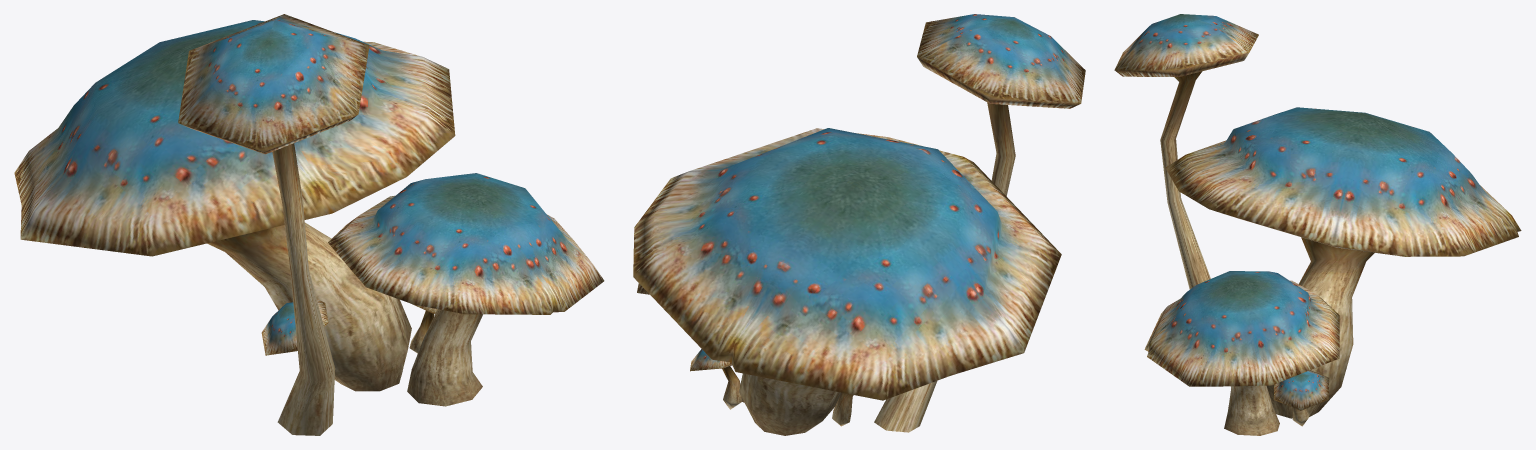
The model's file is dumogu.FBX.
The picture shows the model from 3 angles, left to right: view 1: azimuth 30°, elevation 25°; view 2: azimuth 150°, elevation 25°; view 3: azimuth 270°, elevation 25°; orthographic projection. The views are drawn at different scales.
Visible parts, largest first — view 1: ToxicSpore; view 2: ToxicSpore; view 3: ToxicSpore.
Boxes of the visible parts, box(x1,y1,x2,y2) form: ToxicSpore: box(14, 14, 604, 435); ToxicSpore: box(633, 14, 1085, 435); ToxicSpore: box(1114, 14, 1521, 435).
Size of the model in its own units: 189 by 164 by 182.
Materials: 1 (1 with a texture image).
